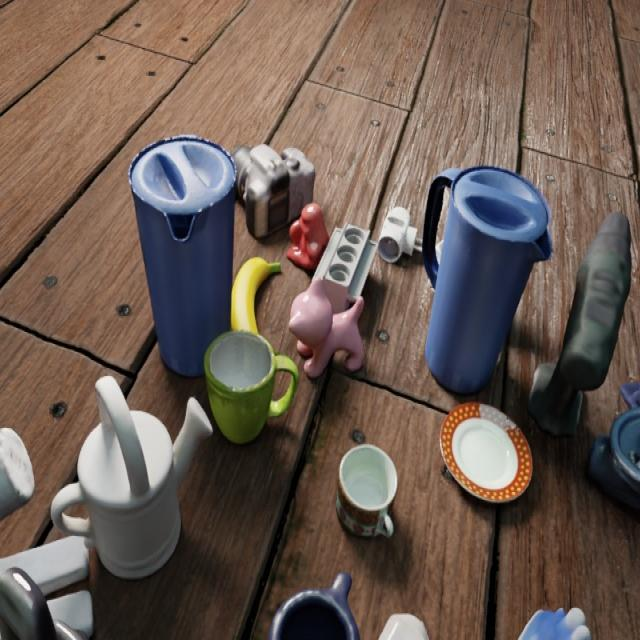Other Objects: (422, 165, 551, 393), (128, 135, 236, 376), (440, 403, 532, 503), (204, 331, 276, 443), (232, 144, 315, 239), (288, 280, 363, 377), (268, 573, 359, 639), (313, 224, 376, 312), (336, 444, 396, 536), (454, 419, 516, 487), (232, 257, 280, 332), (286, 203, 329, 269), (378, 207, 419, 263), (518, 608, 590, 639), (378, 613, 428, 639)
